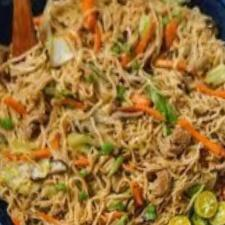pancit bihon: (0, 1, 224, 224)
